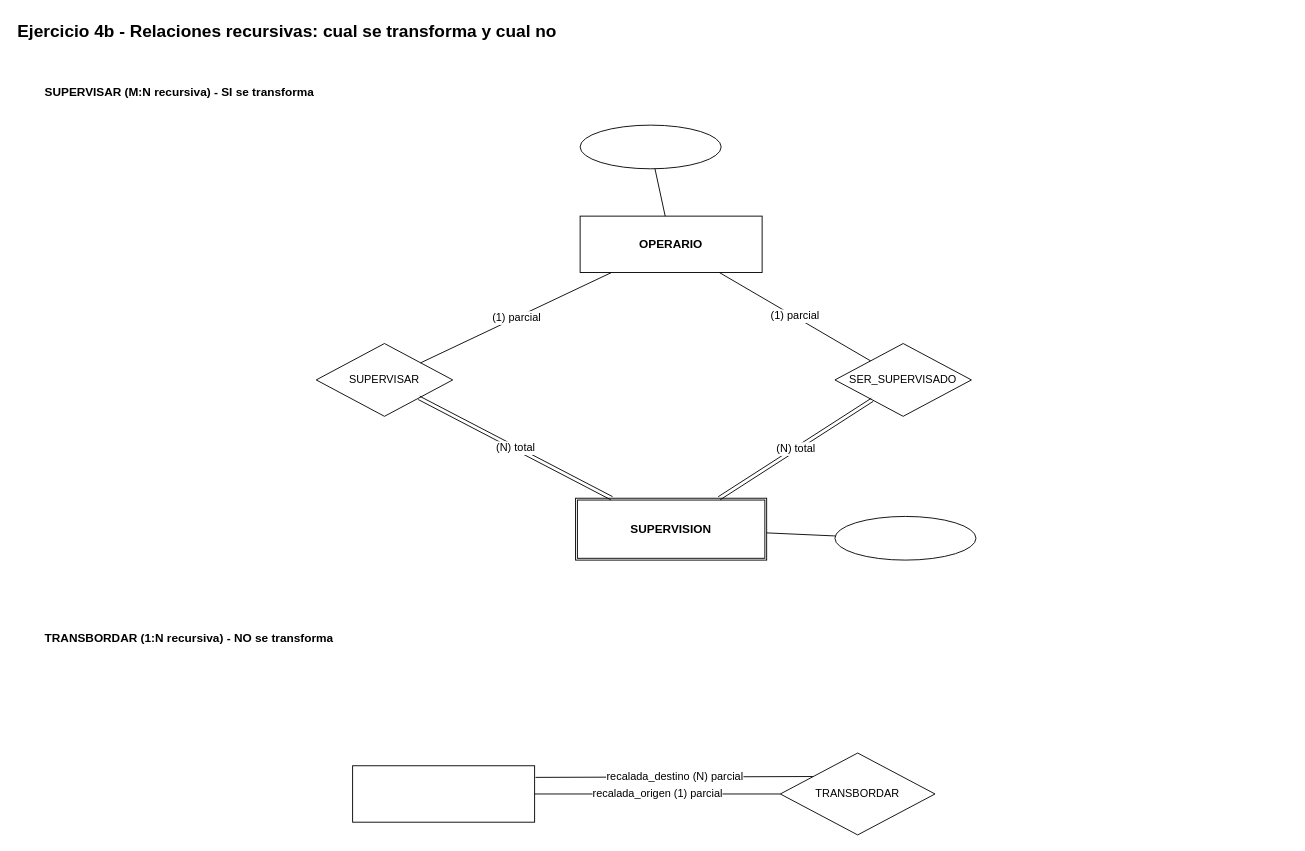
This 1305x851 diagram has some shape labels left out. Here are the shapes that lost their labels. From the top down, the centre of each, then its label:
[650,146]: id_operario
[905,538]: periodo
[443,793]: RECALADA
